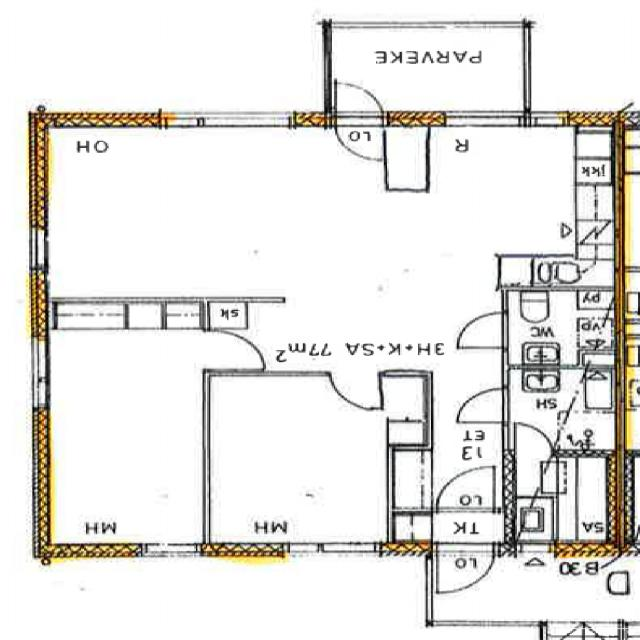door: (436, 544, 494, 598), (436, 465, 494, 513), (335, 113, 383, 162), (335, 77, 383, 126), (205, 331, 262, 369), (329, 371, 380, 413), (454, 312, 508, 348), (456, 388, 508, 422), (516, 422, 555, 456)
